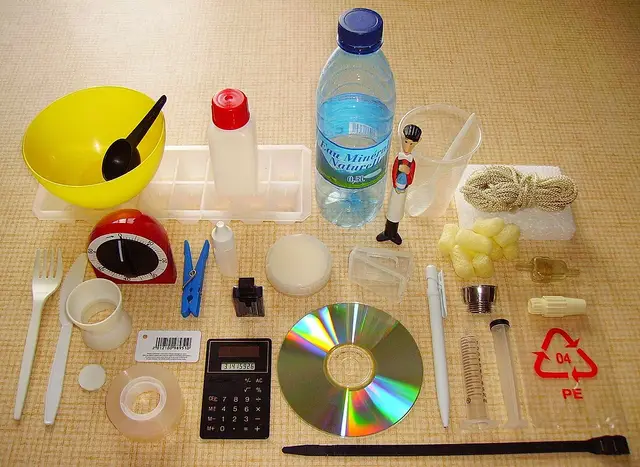plastic: (31, 146, 312, 224), (505, 256, 627, 431), (277, 302, 424, 438), (22, 86, 167, 209), (316, 8, 395, 229), (398, 104, 481, 219), (455, 165, 575, 240), (13, 249, 65, 419), (282, 435, 629, 457), (200, 338, 273, 440), (45, 254, 88, 427), (406, 113, 476, 219), (89, 210, 178, 284), (105, 364, 185, 441), (103, 94, 167, 183), (207, 89, 259, 197), (377, 125, 423, 246), (462, 166, 577, 214), (66, 278, 133, 352), (424, 265, 452, 428), (489, 319, 529, 431), (459, 327, 500, 433), (268, 234, 332, 298), (348, 247, 414, 307), (135, 329, 201, 363), (182, 239, 210, 317), (516, 255, 583, 285), (211, 223, 239, 278), (528, 297, 587, 322), (232, 278, 266, 318), (462, 287, 499, 315), (458, 230, 493, 256), (450, 247, 475, 281), (78, 364, 106, 392), (494, 224, 521, 248), (439, 224, 458, 256), (472, 254, 496, 279), (473, 219, 504, 235), (501, 245, 521, 261)
